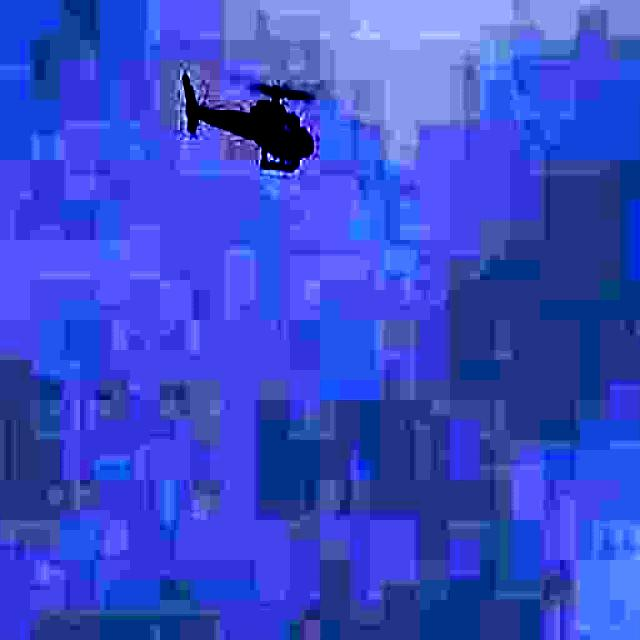drone: (164, 48, 320, 194)
